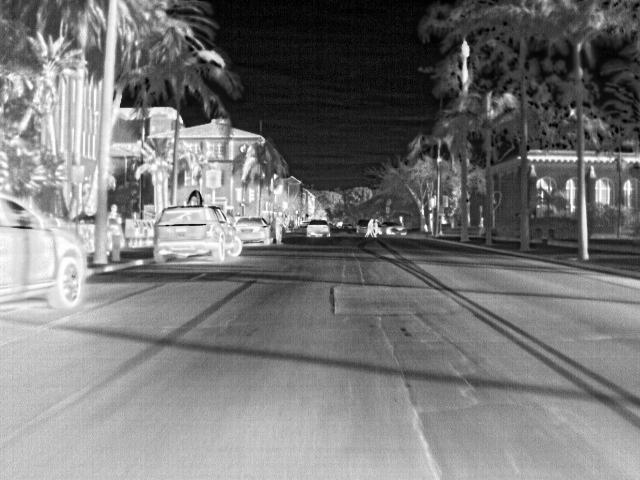car: (2, 195, 85, 309), (153, 205, 242, 260), (236, 218, 270, 244), (308, 219, 332, 239), (384, 222, 403, 236), (354, 220, 368, 234)
person: (110, 204, 124, 237), (273, 211, 287, 230), (368, 218, 374, 236), (376, 220, 382, 237)
